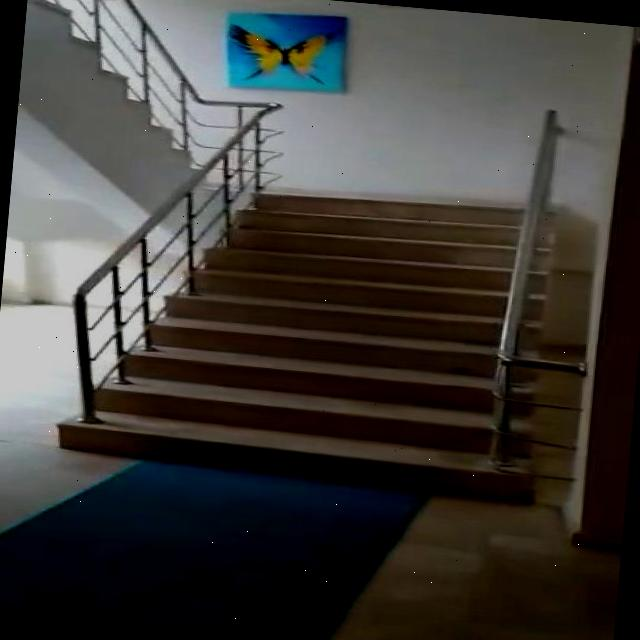stairs: (56, 165, 571, 502)
